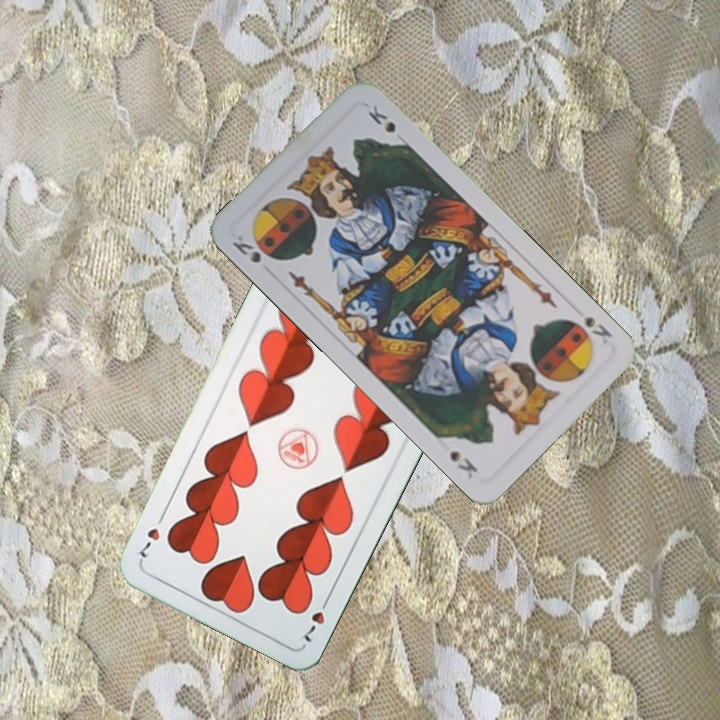H7: (299, 591, 333, 645)
SK: (563, 311, 615, 348), (228, 231, 264, 266)
